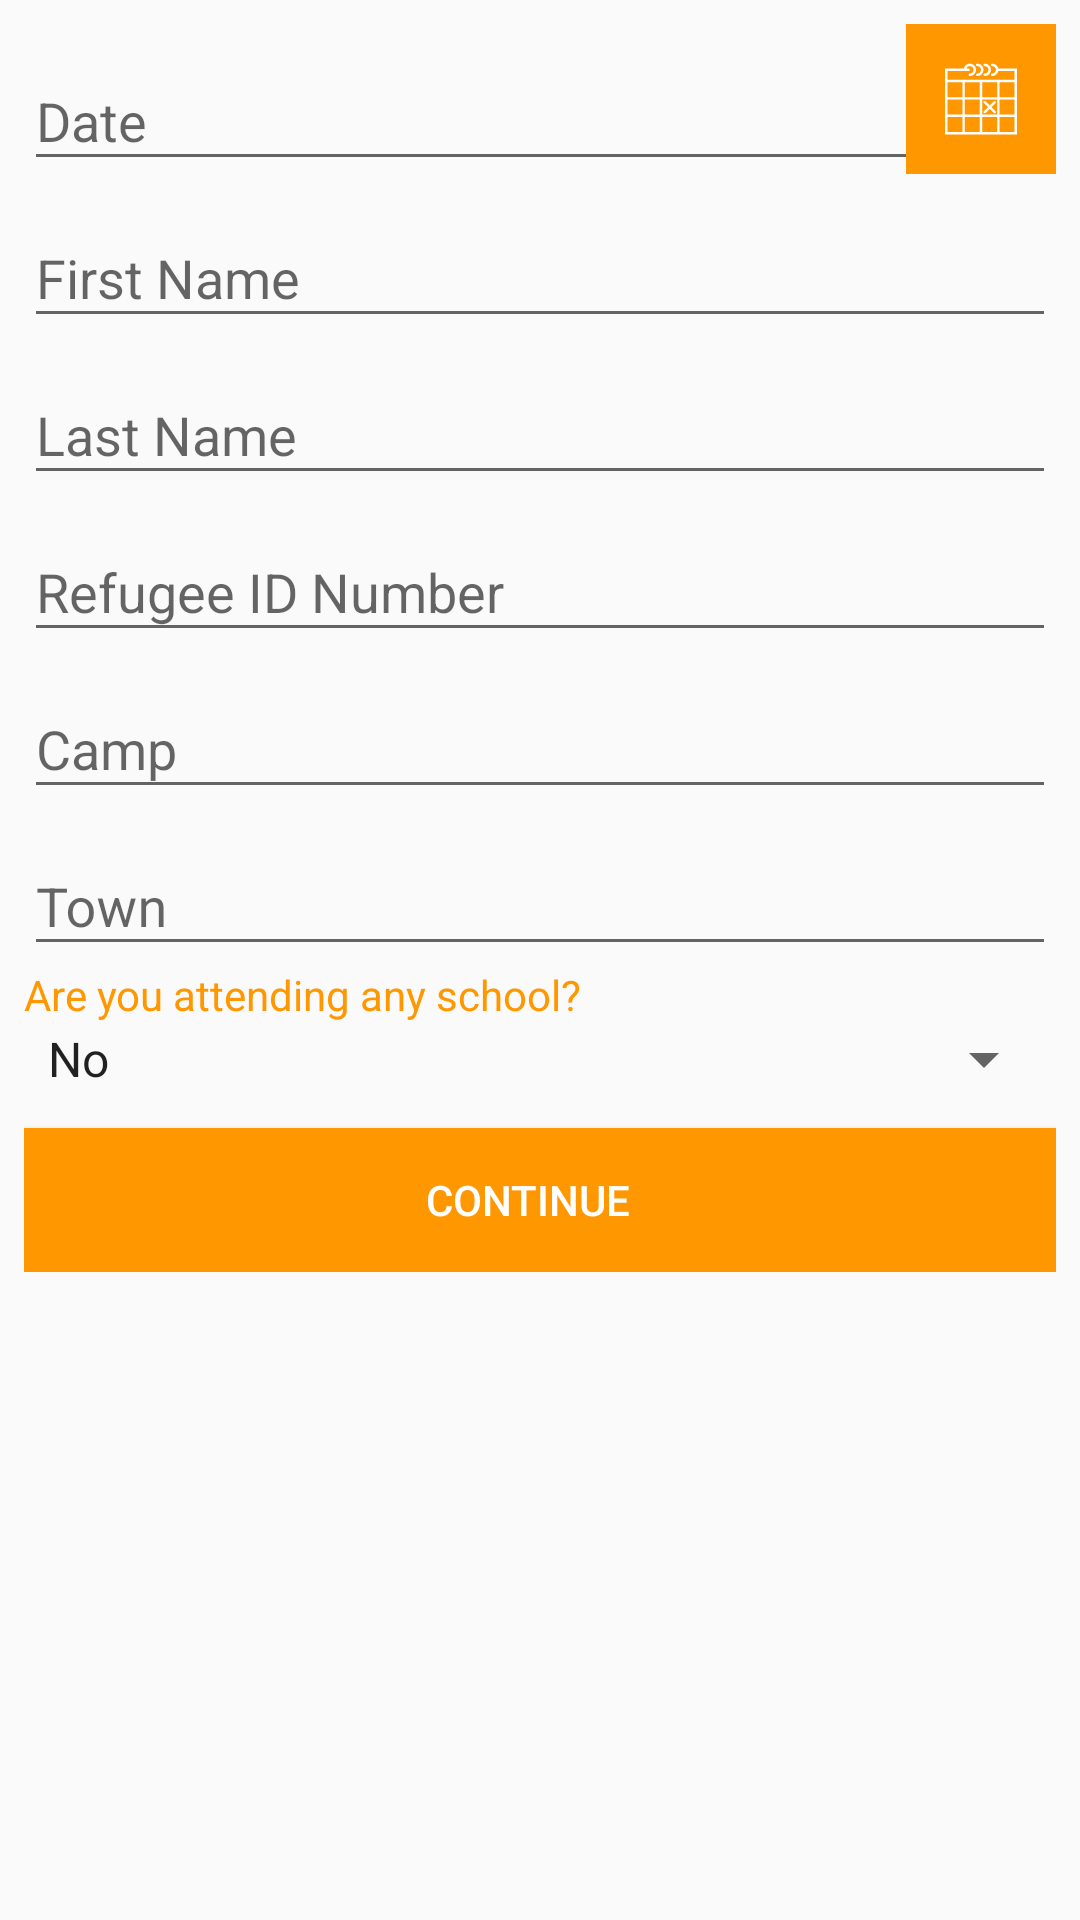

Where to tap for icons on this 1080px×1920px app screen, as [x,y]:
calendar: [981,99]
